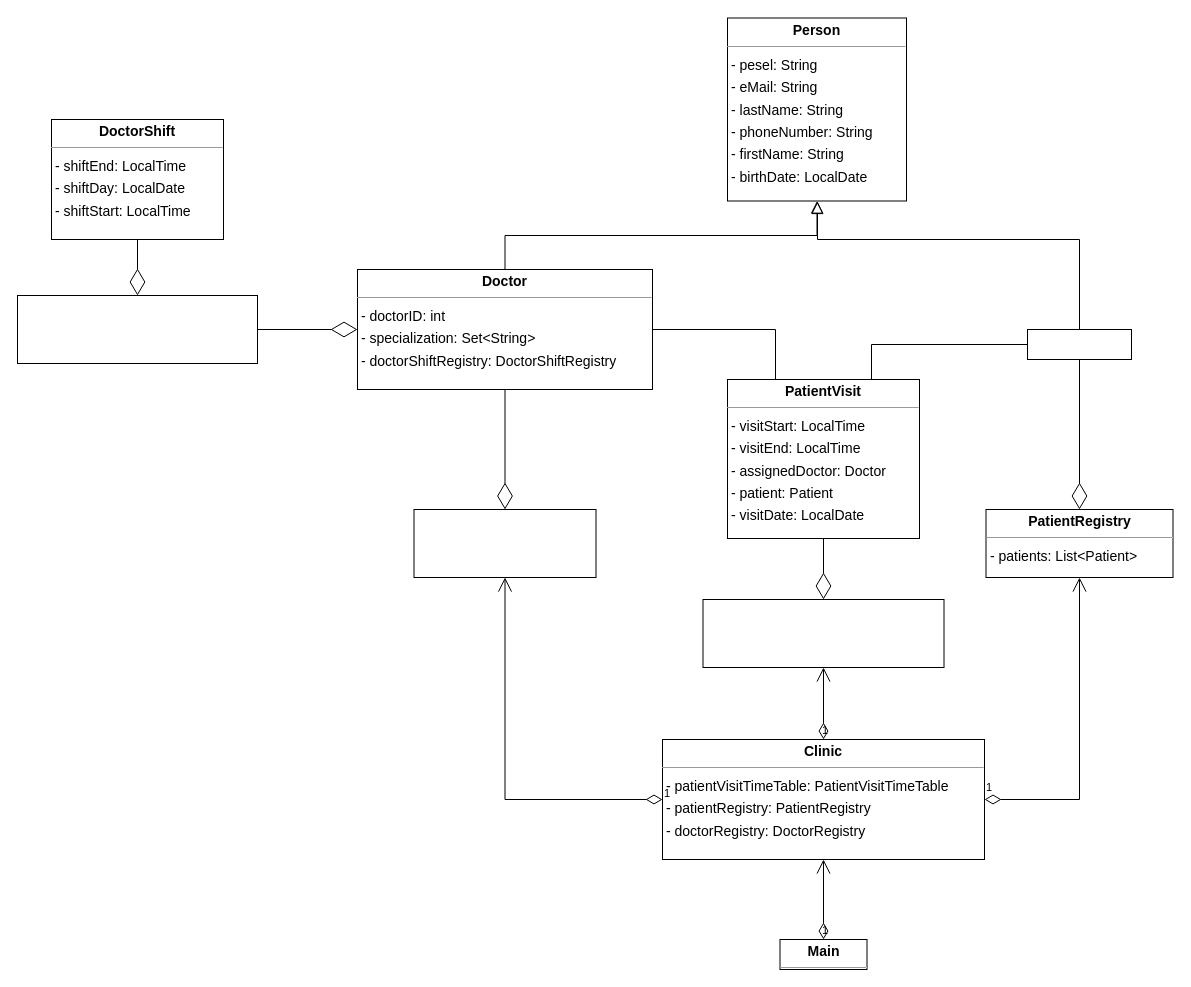
This 1191x987 diagram has some shape labels left out. Here are the shapes that lost their labels. From the top down, the centre of each, then its label:
the point at 137,329: DoctorShiftRegistry - doctorShifts: List<DoctorShift>
the point at 1079,344: Patient
the point at 504,543: DoctorRegistry - doctors: List<Doctor>
the point at 823,633: PatientVisitTimeTable ~ patientVisits: List<PatientVisit>
